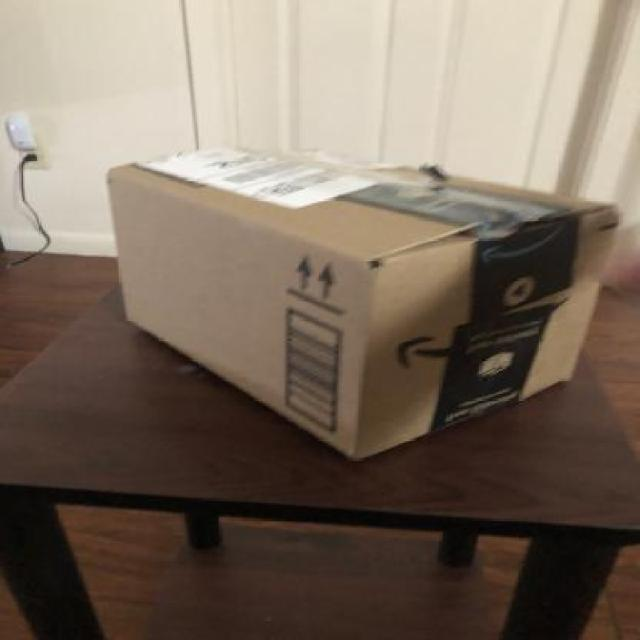cardboxes: (105, 146, 626, 466)
